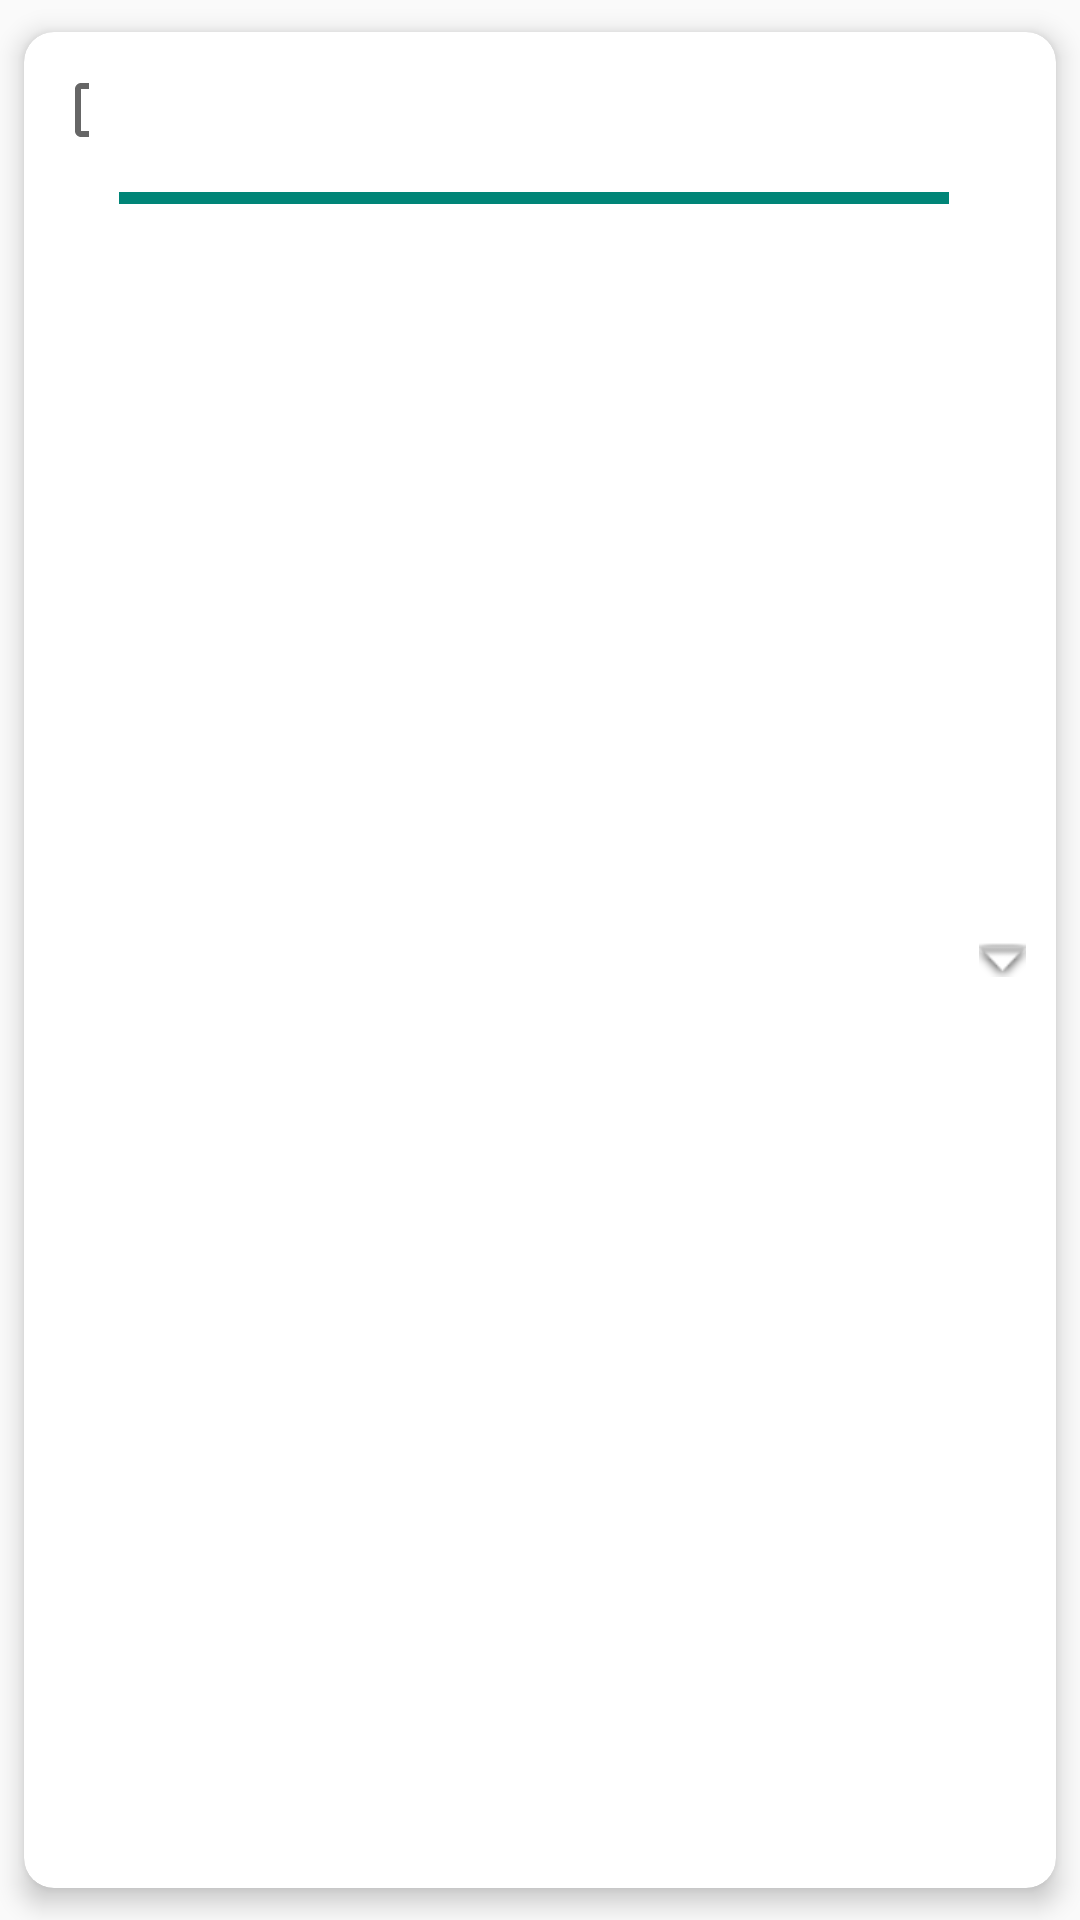

Where to tap for icons on this 1080w x 1920h app screen, as (x=x, y=y):
arrow down float: (x=1002, y=960)
